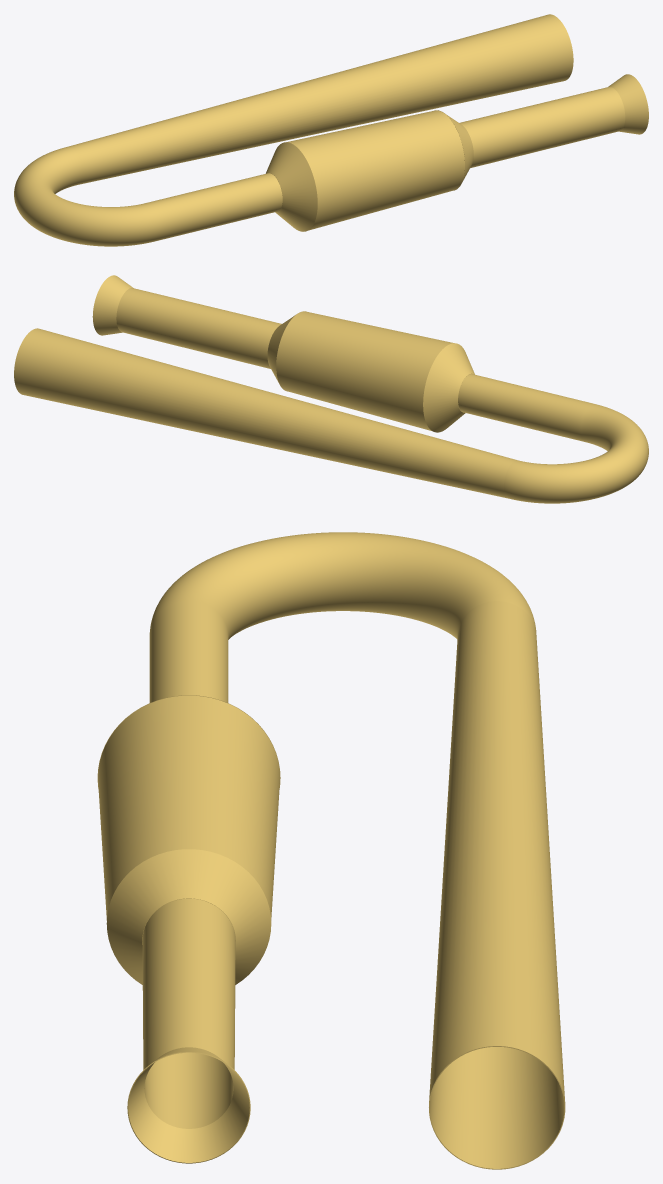
Rendered from pulsejet_v3.gltf.
3 renders of one model, top to bottom at view 1: azimuth 30°, elevation 25°; view 2: azimuth 150°, elevation 25°; view 3: azimuth 270°, elevation 25°, orthographic. The views are drawn at different scales.
Parts seen in each view (by area): view 1: Part 1; view 2: Part 1; view 3: Part 1.
Boxes of the visible parts, left/top/right/bottom form: Part 1: left=14, top=14, right=648, bottom=246; Part 1: left=14, top=275, right=648, bottom=503; Part 1: left=97, top=532, right=565, bottom=1169.
Bounding box in the file's own units: 1.29 × 0.1803 × 0.4617.
